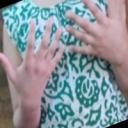hand: (0, 17, 66, 98), (65, 0, 128, 65)
